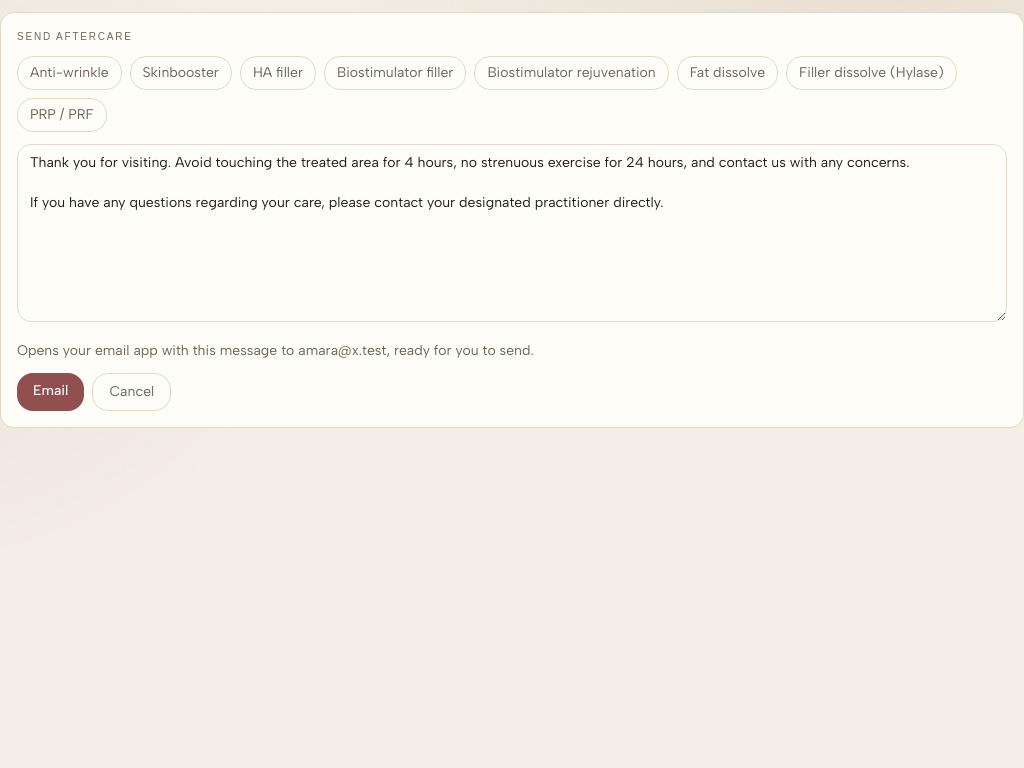
Test: AftercareForm › re-assembles the body and counts categories as they are toggled
The width and height of the screenshot is (1024, 768).
Click the button "Anti-wrinkle". click: point(69, 73)
box: [17,56,122,90]
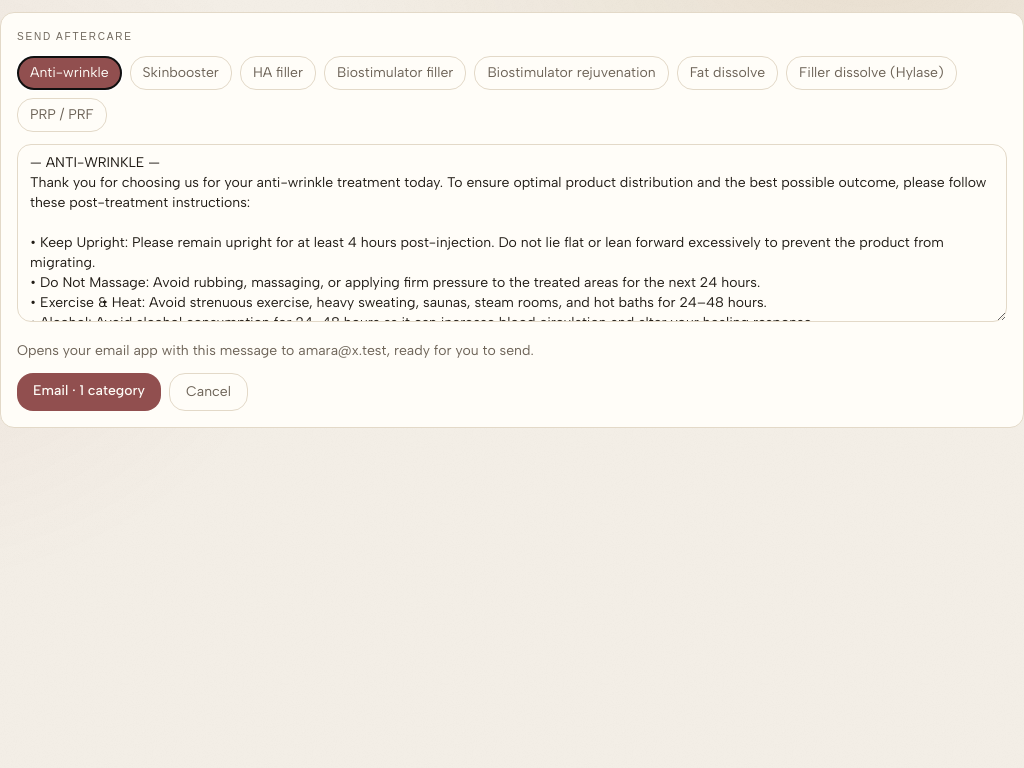
Expected: the link "Email · 1 category" is shown, [17,373,161,411]
Click the button "Skinbooster". click: point(181, 73)
box: [130,56,232,90]
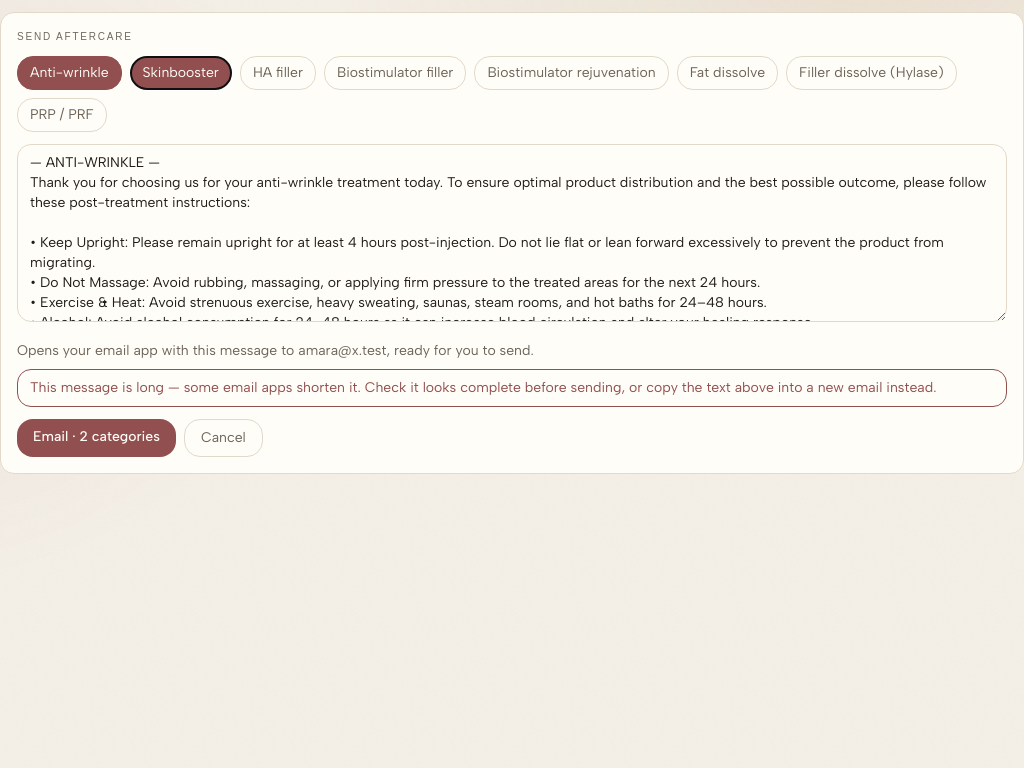
Expected: the link "Email · 2 categories" is shown
Click the link "Email · 2 categories". click: point(96, 438)
box: [17,419,176,457]
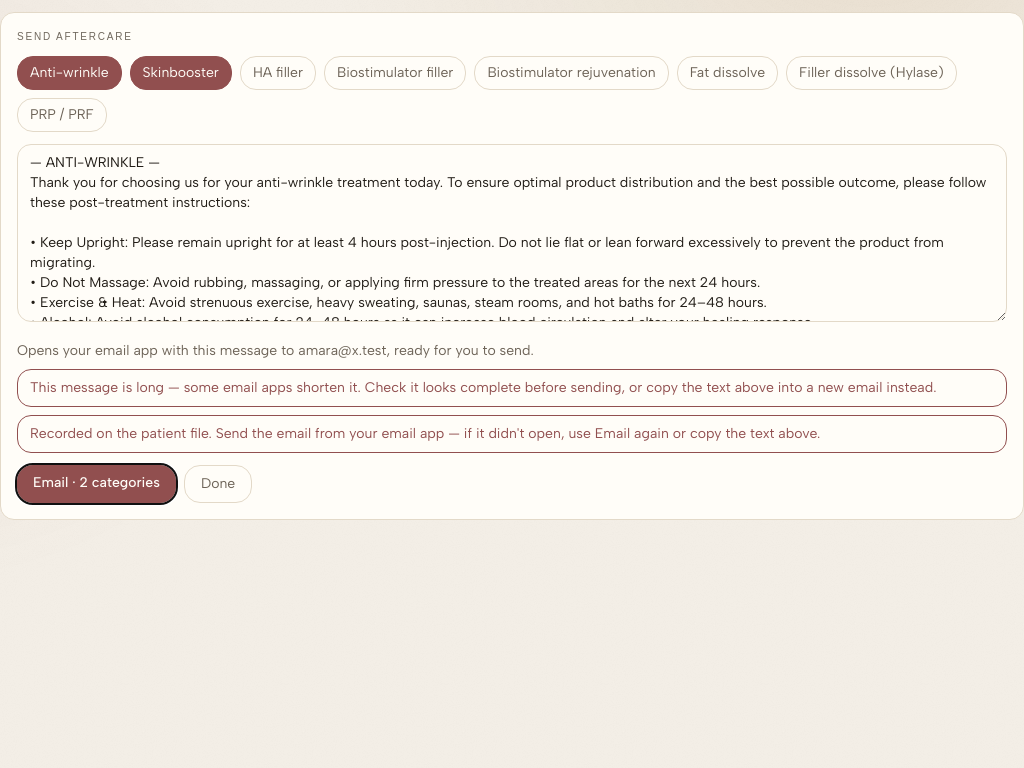
Expected: the text "Recorded on the patient file" is shown, [30,425,820,442]
